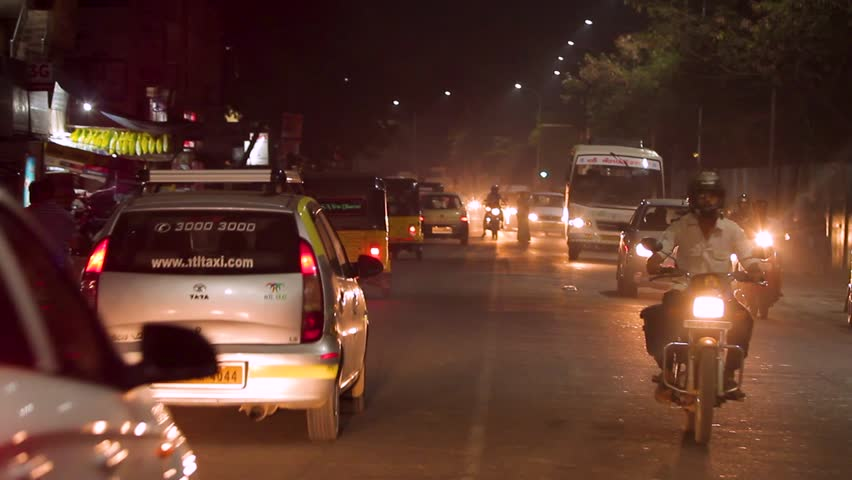bike: (664, 184, 735, 444), (739, 203, 787, 322), (483, 183, 507, 240)
bus: (566, 145, 664, 253)
car: (94, 170, 367, 439), (620, 200, 675, 284), (420, 192, 468, 244), (529, 194, 563, 238)
rickshaw: (316, 180, 392, 284), (380, 179, 423, 258)
